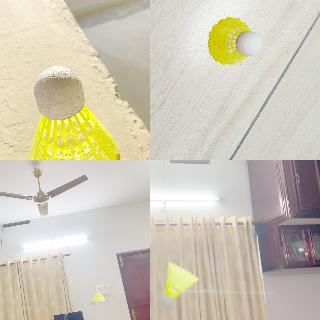shuttlecock: (28, 65, 118, 159), (210, 16, 262, 66), (160, 262, 198, 306), (90, 290, 104, 304)
